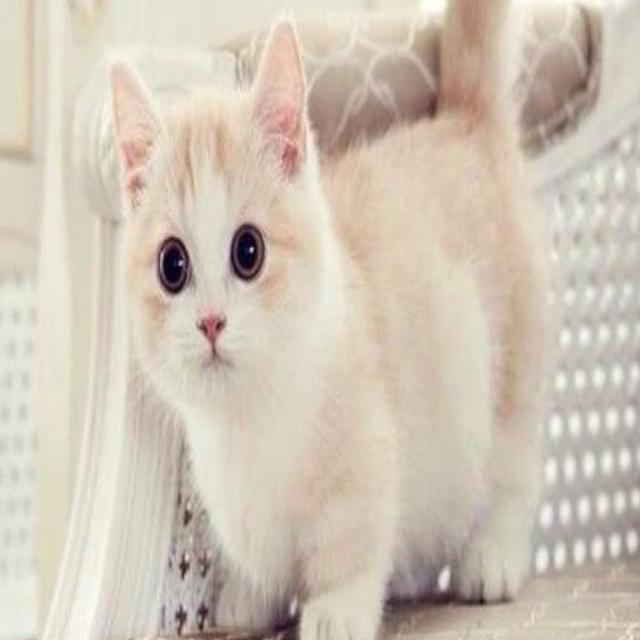Munchkin: (105, 0, 558, 640)
